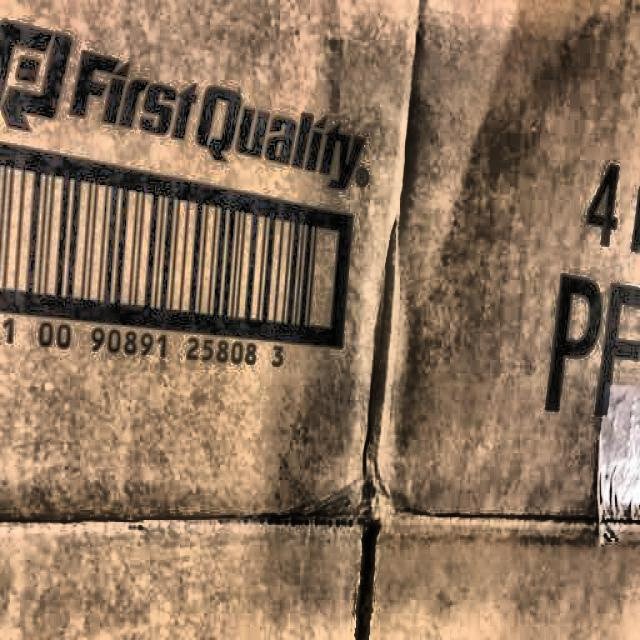cardboard: (4, 5, 630, 632)
